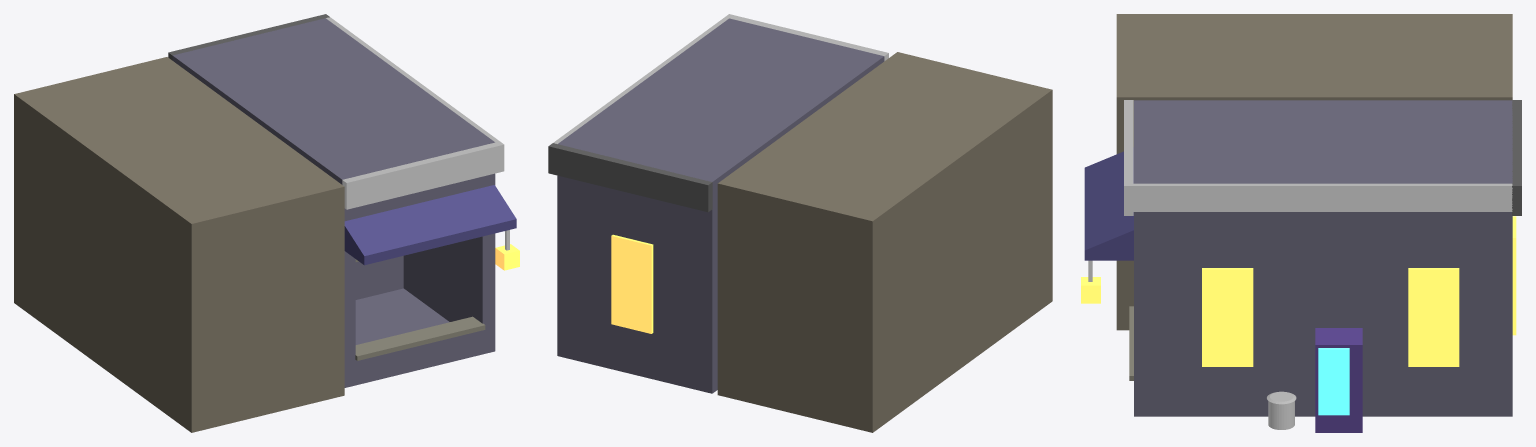
The model's file is small-shops-1.glb.
3 renders of one model, left to right at view 1: azimuth 30°, elevation 25°; view 2: azimuth 150°, elevation 25°; view 3: azimuth 270°, elevation 25°, orthographic. The views are drawn at different scales.
Parts seen in each view (by area): view 1: Cube.028, Cube.001, Cube.002, Cube.011, Cube, Cube.010, Cube.012, Cube.007; view 2: Cube.028, Cube.001, Cube.012, Cube.013, Cube.010, Cube.011; view 3: Cube.001, Cube.028, Cube.010, Cube.008, Cube.009, Cube.002, Cube.014, Cube.015, Cube.011, Cube.012, Cylinder, Cube.013 (+1 smaller).
Boxes of the visible parts, left/top/right/bottom form: Cube.028: left=14, top=57, right=344, bottom=432; Cube.001: left=172, top=18, right=495, bottom=387; Cube.002: left=344, top=185, right=516, bottom=265; Cube.011: left=342, top=141, right=504, bottom=209; Cube: left=355, top=316, right=485, bottom=360; Cube.010: left=326, top=17, right=499, bottom=142; Cube.012: left=168, top=14, right=329, bottom=60; Cube.007: left=495, top=244, right=519, bottom=270; Cube.028: left=717, top=52, right=1052, bottom=432; Cube.001: left=557, top=18, right=884, bottom=393; Cube.012: left=548, top=143, right=712, bottom=212; Cube.013: left=611, top=234, right=653, bottom=333; Cube.010: left=553, top=17, right=728, bottom=143; Cube.011: left=725, top=14, right=888, bottom=61; Cube.001: left=1134, top=100, right=1512, bottom=416; Cube.028: left=1116, top=14, right=1512, bottom=330; Cube.010: left=1133, top=183, right=1512, bottom=211; Cube.008: left=1202, top=268, right=1253, bottom=366; Cube.009: left=1408, top=268, right=1459, bottom=366; Cube.002: left=1084, top=147, right=1133, bottom=260; Cube.014: left=1315, top=328, right=1362, bottom=432; Cube.015: left=1318, top=348, right=1349, bottom=415; Cube.011: left=1124, top=100, right=1133, bottom=215; Cube.012: left=1512, top=100, right=1521, bottom=215; Cylinder: left=1267, top=391, right=1296, bottom=429; Cube.013: left=1512, top=216, right=1516, bottom=335.
Bounding box in the file's own units: 14.01 × 8.1 × 13.88.
